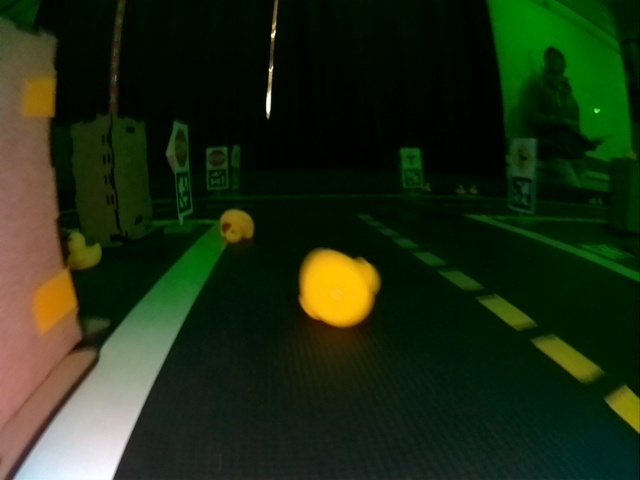Duckie: (300, 250, 379, 324), (63, 233, 101, 269), (221, 209, 248, 242), (457, 186, 464, 194), (472, 186, 479, 194), (424, 185, 432, 192)
Intersection sign: (510, 143, 534, 172), (402, 150, 419, 166)
QR code: (509, 177, 533, 211), (174, 173, 191, 213), (207, 171, 227, 188), (403, 170, 421, 187)
Stop sign: (174, 128, 189, 167), (207, 150, 226, 167)
